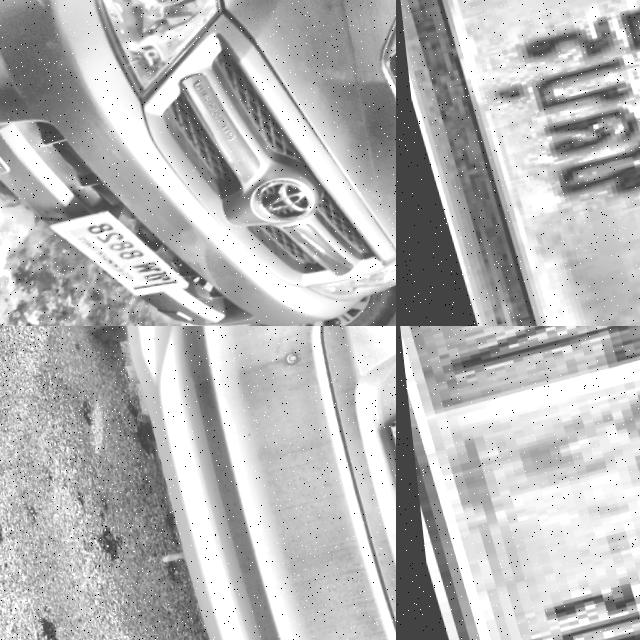license-plate: (396, 0, 640, 326), (396, 326, 640, 640), (33, 196, 181, 321)
